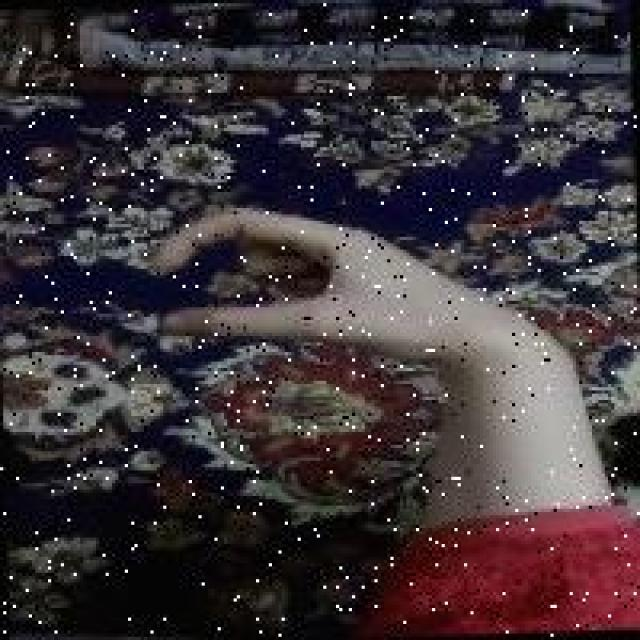Q: (148, 186, 534, 364)
